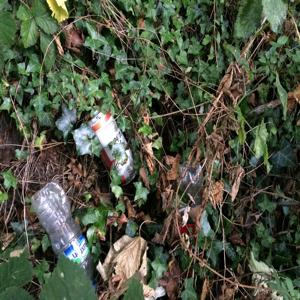metal: (90, 106, 144, 185)
plastic: (24, 183, 102, 281)
